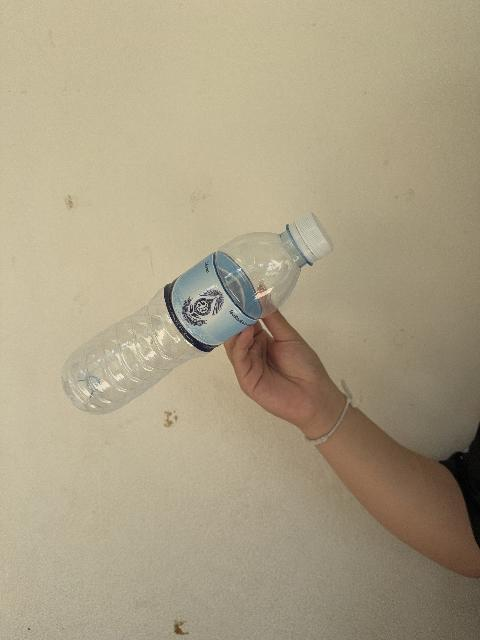bottle: (62, 213, 333, 413)
